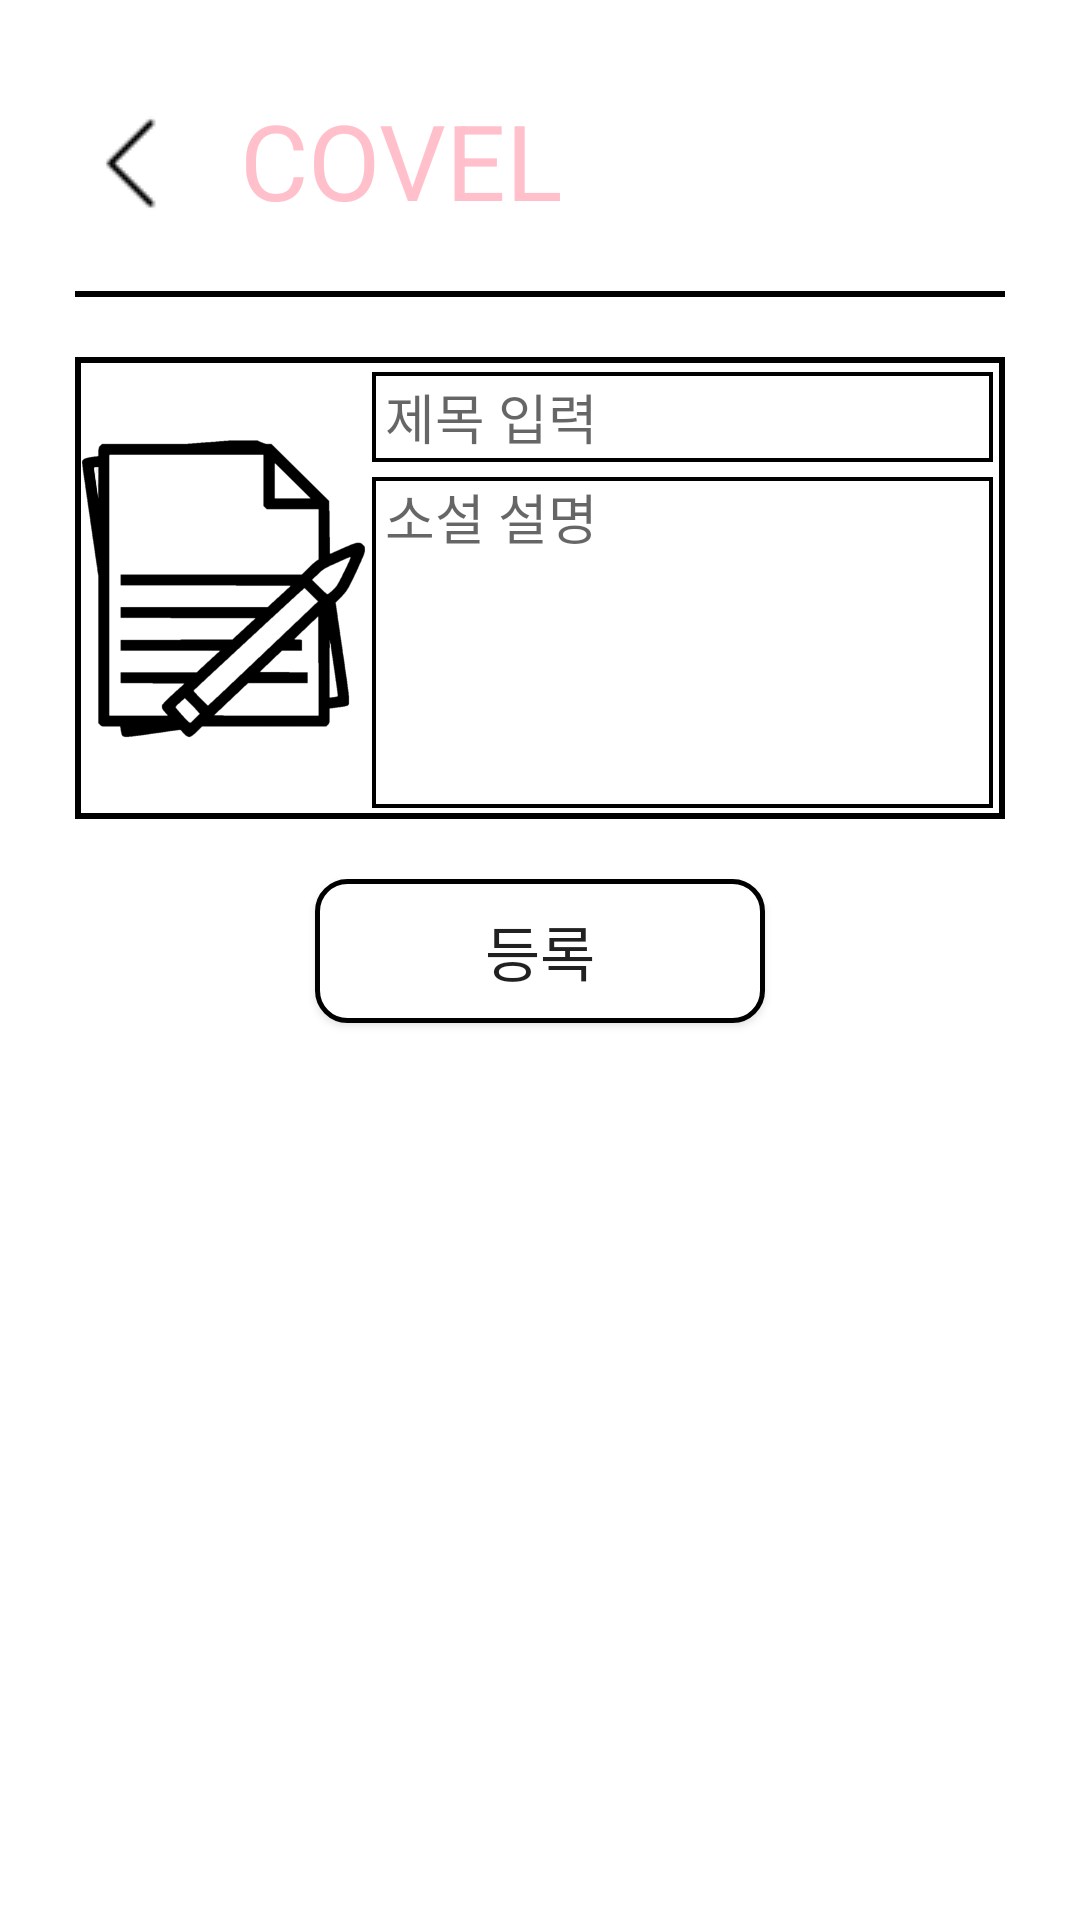

Named icons in this screenshot (1080 × 1920) and their bounding boxes, (x1, y1, x2, y2):
backbutton: (106, 119, 156, 208)
